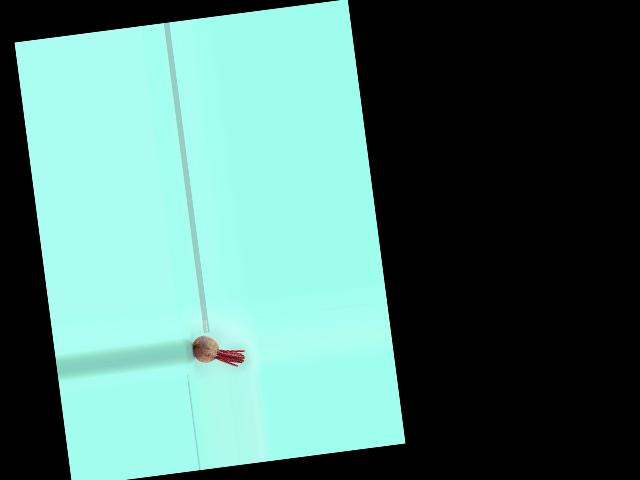beet: (191, 330, 246, 371)
